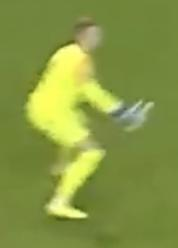goalkeeper: (17, 9, 173, 248)
